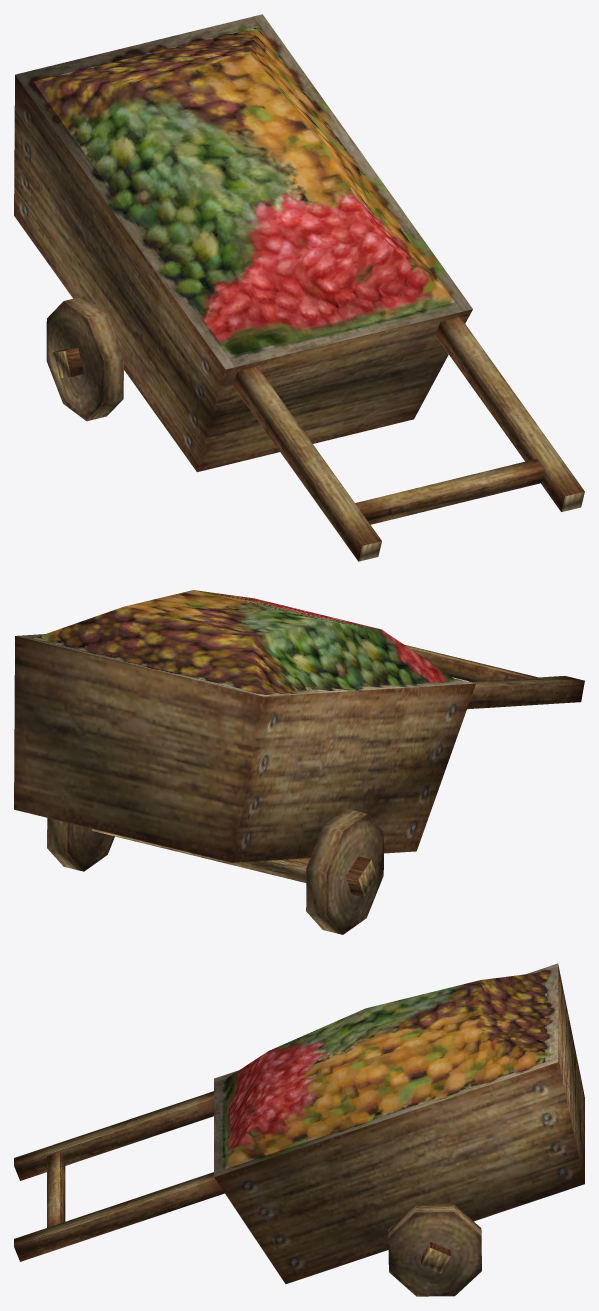
File: hot_minga_handcart_02@s80.glb
3 views of the same model, one above another, from view 1: azimuth 30°, elevation 25°; view 2: azimuth 150°, elevation 25°; view 3: azimuth 270°, elevation 25° (orthographic). The views are drawn at different scales.
Parts seen in each view (by area): view 1: hot_minga_handcart_02; view 2: hot_minga_handcart_02; view 3: hot_minga_handcart_02.
Part boxes in pixels (x1,y1,x2,y2): hot_minga_handcart_02: (14, 14, 584, 561); hot_minga_handcart_02: (14, 590, 584, 934); hot_minga_handcart_02: (14, 963, 584, 1296).
Bounding box in the file's own units: 1.61 × 1.45 × 3.18.
1 material, 1 textured.
